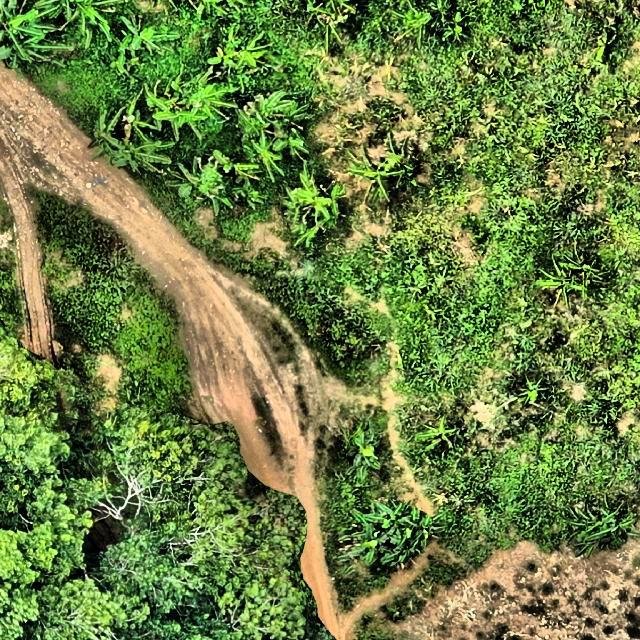Kelapa_Sawit: (360, 502, 436, 576), (560, 502, 635, 558), (149, 83, 229, 134), (4, 8, 54, 69), (175, 160, 234, 210), (292, 178, 346, 232), (348, 154, 404, 205), (242, 132, 292, 182), (116, 134, 168, 179), (214, 44, 266, 88), (342, 428, 387, 478), (65, 6, 123, 43), (121, 19, 170, 60), (544, 264, 585, 306), (568, 252, 608, 290), (402, 0, 437, 39), (92, 112, 126, 152), (426, 416, 459, 454), (519, 378, 550, 408)
